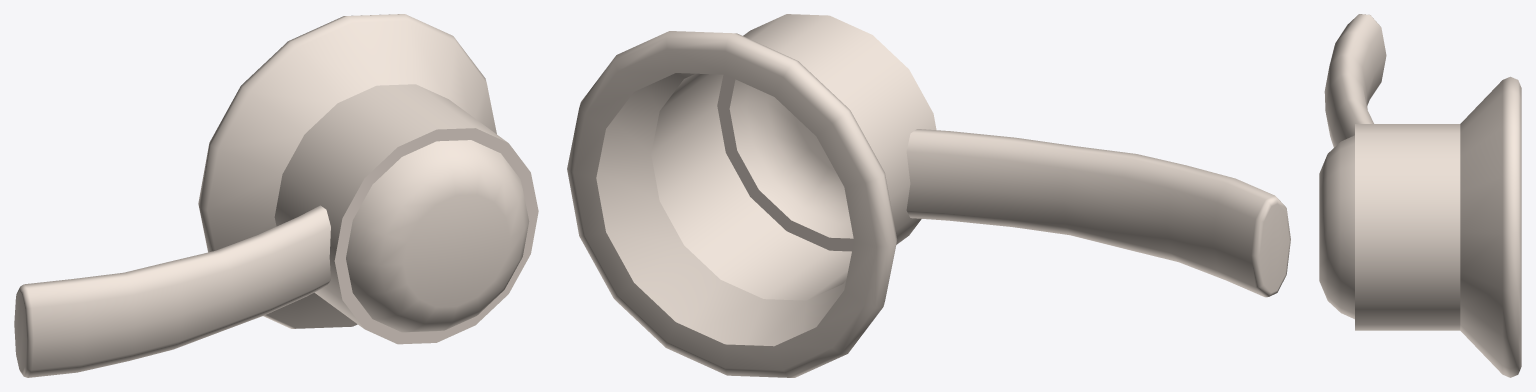
File: Knob1MeshSinkFaucetKnobL_3_1.obj
3 renders of one model, left to right at view 1: azimuth 30°, elevation 25°; view 2: azimuth 150°, elevation 25°; view 3: azimuth 270°, elevation 25°, orthographic. The views are drawn at different scales.
Visible parts, largest first — view 1: SinkFaucetKnobL_3; view 2: SinkFaucetKnobL_3; view 3: SinkFaucetKnobL_3.
Part boxes in pixels (box(x1,y1,x2,y2)): SinkFaucetKnobL_3: box(14, 14, 538, 377); SinkFaucetKnobL_3: box(567, 14, 1290, 377); SinkFaucetKnobL_3: box(1319, 14, 1521, 377).
Bounding box in the file's own units: 0.1699 × 0.0898 × 0.0602.
